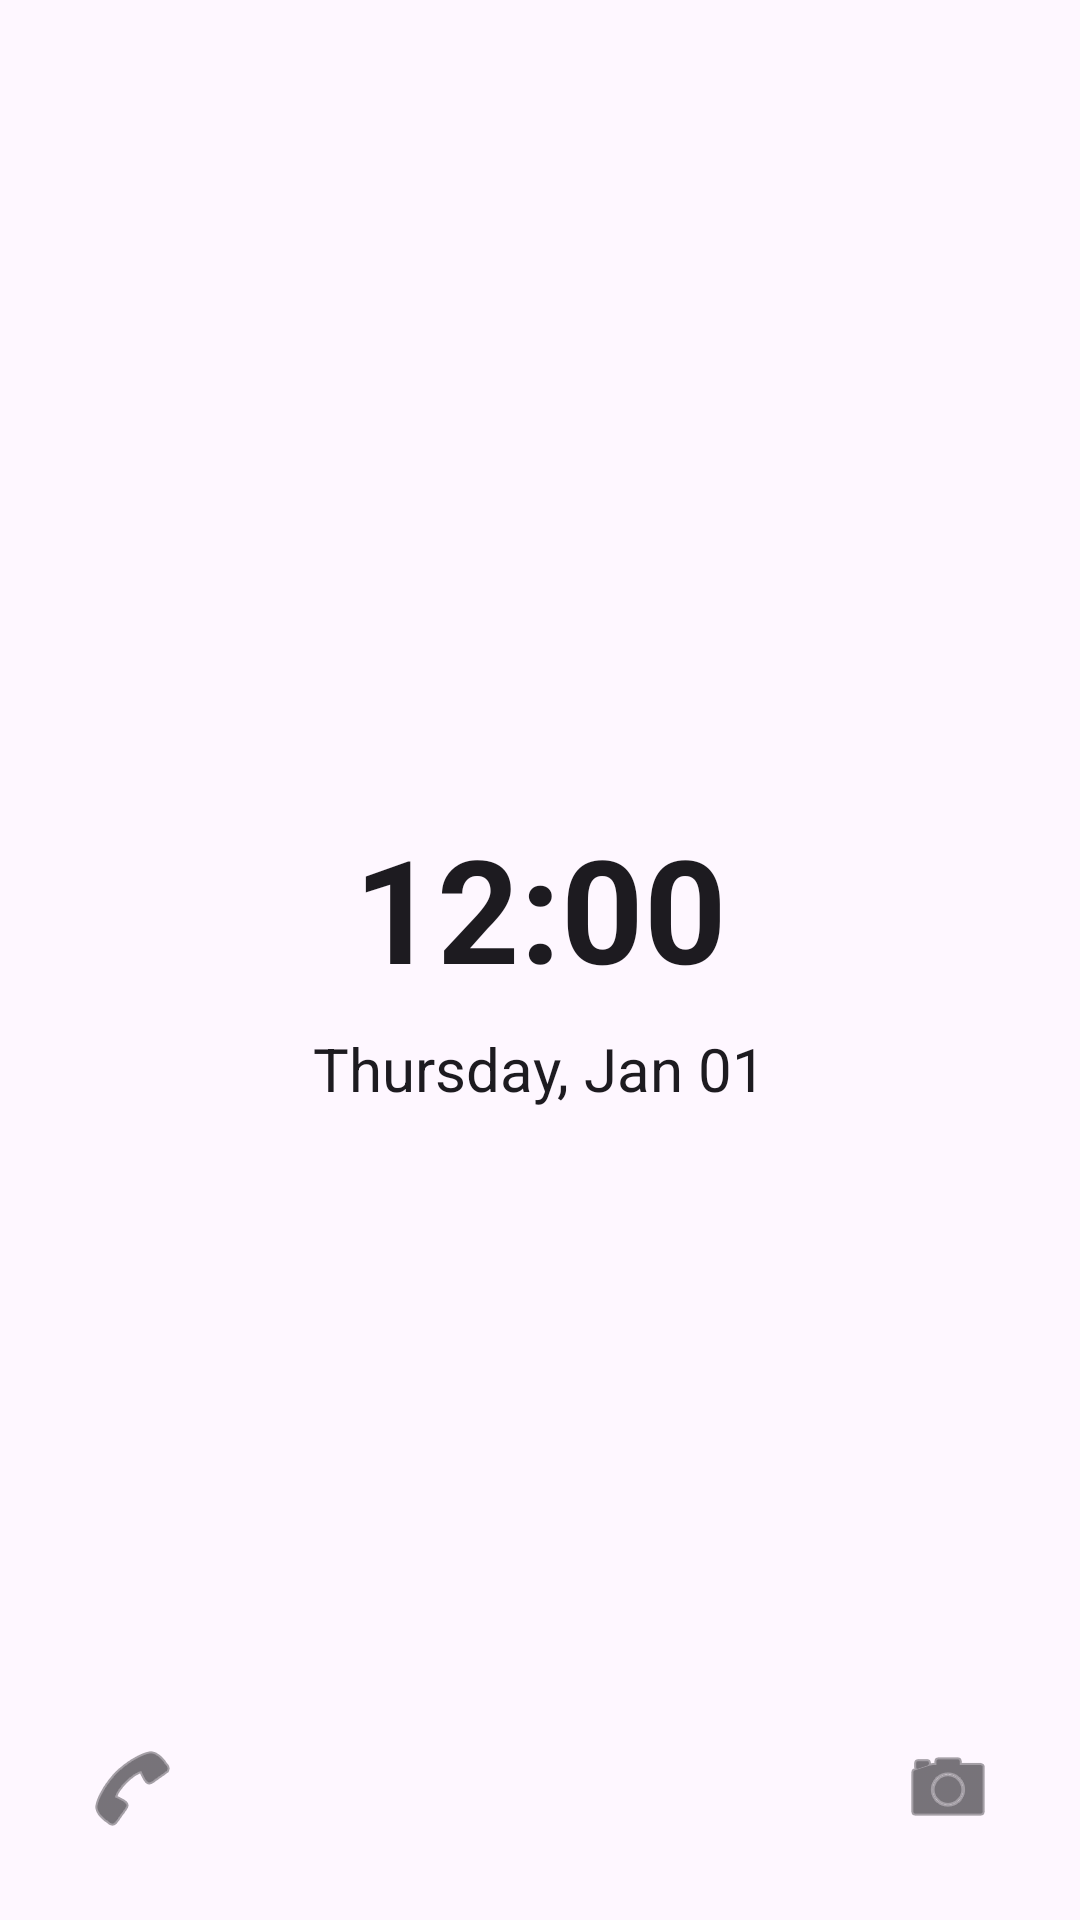

Icons on this 1080×1920 Android screen, each with its box as (x1, y1, x2, y2):
Camera: (911, 1757, 985, 1816)
Phone: (95, 1751, 170, 1826)
